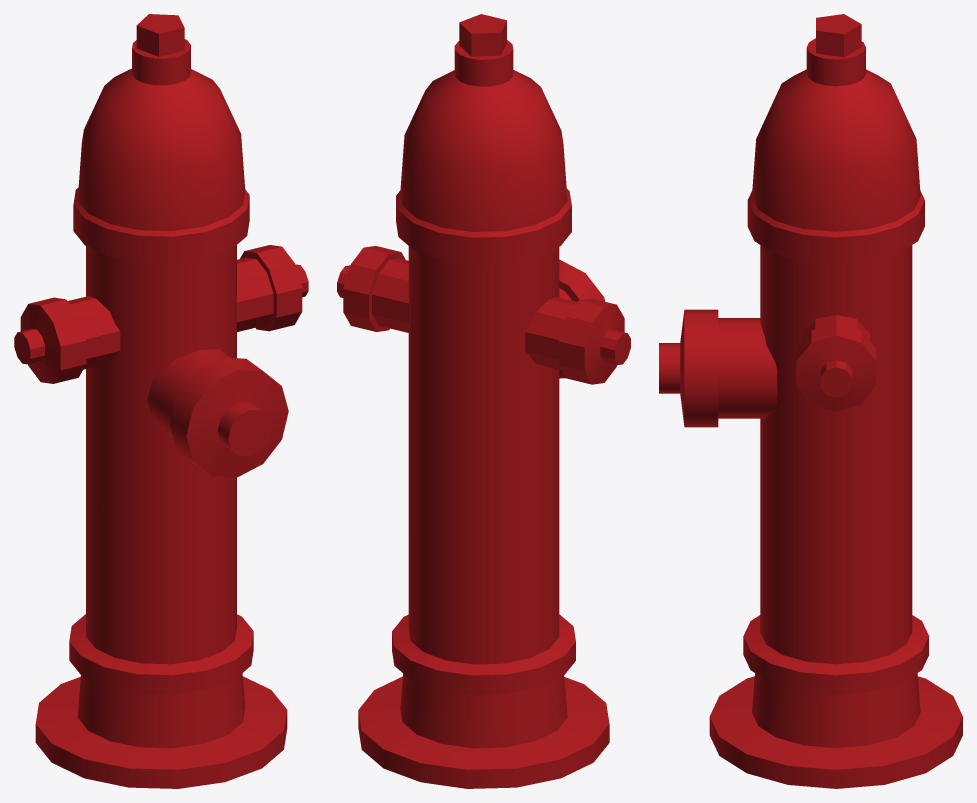
File: fire-hydrant.glb
3 renders of one model, left to right at view 1: azimuth 30°, elevation 25°; view 2: azimuth 150°, elevation 25°; view 3: azimuth 270°, elevation 25°, orthographic.
Parts seen in each view (by area): view 1: fire-hydrant; view 2: fire-hydrant; view 3: fire-hydrant.
Boxes of the visible parts, x1,y1,x2,y2 form: fire-hydrant: [14, 14, 308, 788]; fire-hydrant: [337, 14, 630, 788]; fire-hydrant: [659, 14, 962, 788].
Bounding box in the file's own units: 0.38 × 0.93 × 0.36.
